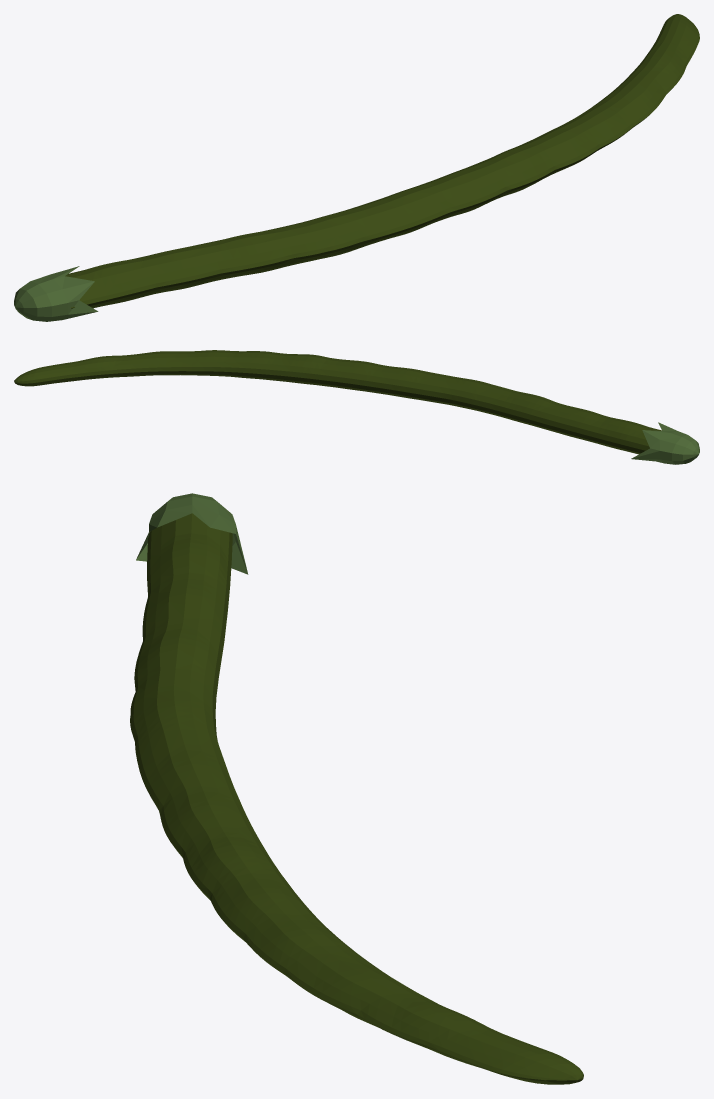
The model's file is CowpeaPod.obj.
3 renders of one model, top to bottom at view 1: azimuth 30°, elevation 25°; view 2: azimuth 150°, elevation 25°; view 3: azimuth 270°, elevation 25°, orthographic. The views are drawn at different scales.
Visible parts, largest first — view 1: fruit, sepal; view 2: fruit, sepal; view 3: fruit, sepal.
Part boxes in pixels (x1,y1,x2,y2): fruit: (65, 14, 699, 308); sepal: (14, 266, 98, 321); fruit: (14, 350, 661, 454); sepal: (631, 422, 699, 464); fruit: (130, 513, 583, 1084); sepal: (136, 493, 248, 574).
Bounding box in the file's own units: 0.8665 × 0.0401 × 0.2891.
